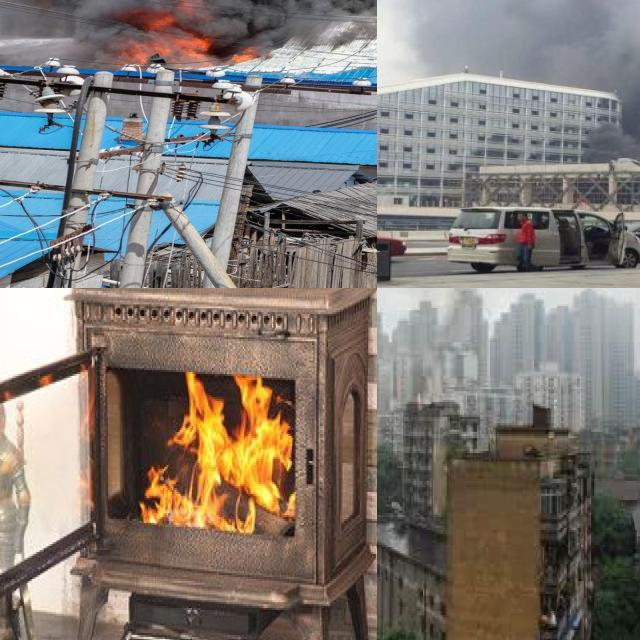fire: (140, 364, 296, 529), (110, 2, 260, 70)
smoke: (377, 0, 640, 167), (0, 0, 377, 58)
